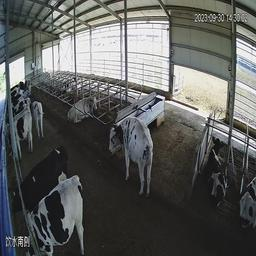cow: (102, 104, 155, 196), (21, 180, 89, 249), (15, 143, 79, 192), (201, 122, 231, 212), (6, 100, 45, 145), (62, 84, 97, 127), (238, 142, 255, 230), (5, 75, 33, 104)
